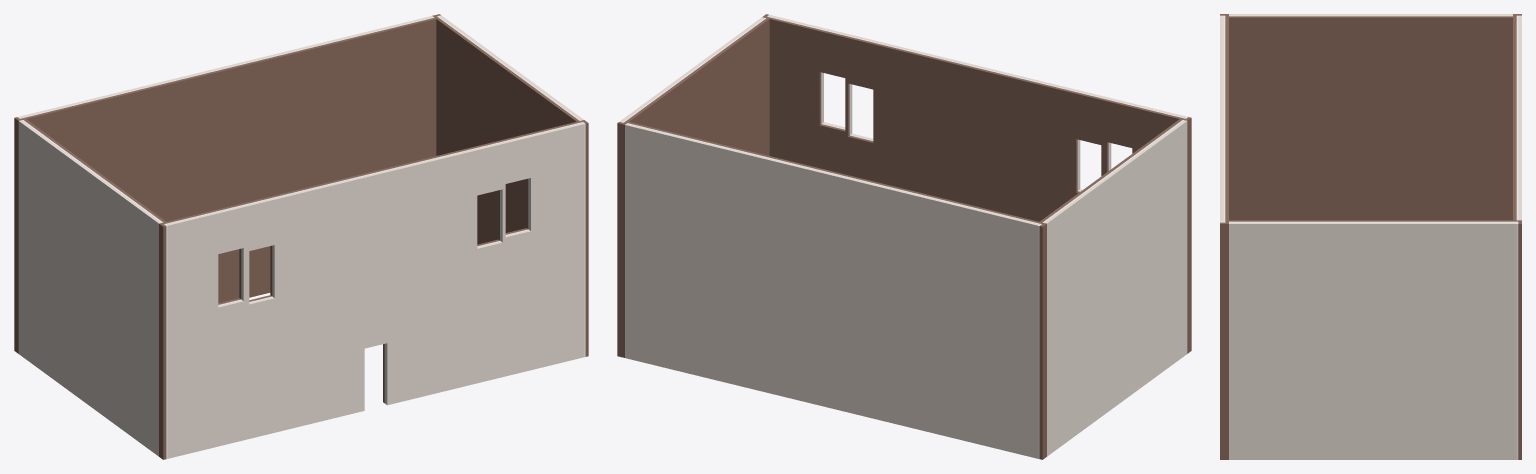
Rendered from Project4_IfcWallStandardCase.dae.
3 views of the same model, side by side, from view 1: azimuth 30°, elevation 25°; view 2: azimuth 150°, elevation 25°; view 3: azimuth 270°, elevation 25° (orthographic).
Visible parts, largest first — view 1: 3SmbFggWX7HupMOn27mrJC, 3SmbFggWX7HupMOn27mrDl, 3SmbFggWX7HupMOn27mrDN, 3SmbFggWX7HupMOn27mrCu; view 2: 3SmbFggWX7HupMOn27mrDl, 3SmbFggWX7HupMOn27mrJC, 3SmbFggWX7HupMOn27mrDN, 3SmbFggWX7HupMOn27mrCu; view 3: 3SmbFggWX7HupMOn27mrCu, 3SmbFggWX7HupMOn27mrDN, 3SmbFggWX7HupMOn27mrJC, 3SmbFggWX7HupMOn27mrDl.
Part boxes in pixels (x1=…): 3SmbFggWX7HupMOn27mrJC: x1=159, y1=120, x2=588, y2=459; 3SmbFggWX7HupMOn27mrDl: x1=14, y1=16, x2=436, y2=353; 3SmbFggWX7HupMOn27mrDN: x1=18, y1=119, x2=166, y2=456; 3SmbFggWX7HupMOn27mrCu: x1=432, y1=14, x2=583, y2=244; 3SmbFggWX7HupMOn27mrDl: x1=625, y1=121, x2=1046, y2=459; 3SmbFggWX7HupMOn27mrJC: x1=762, y1=14, x2=1191, y2=353; 3SmbFggWX7HupMOn27mrDN: x1=1039, y1=119, x2=1187, y2=456; 3SmbFggWX7HupMOn27mrCu: x1=617, y1=17, x2=769, y2=357; 3SmbFggWX7HupMOn27mrCu: x1=1229, y1=220, x2=1521, y2=459; 3SmbFggWX7HupMOn27mrDN: x1=1229, y1=14, x2=1512, y2=220; 3SmbFggWX7HupMOn27mrJC: x1=1220, y1=14, x2=1228, y2=459; 3SmbFggWX7HupMOn27mrDl: x1=1513, y1=14, x2=1521, y2=220.
Bounding box in the file's own units: 15.27 × 9.27 × 8.
